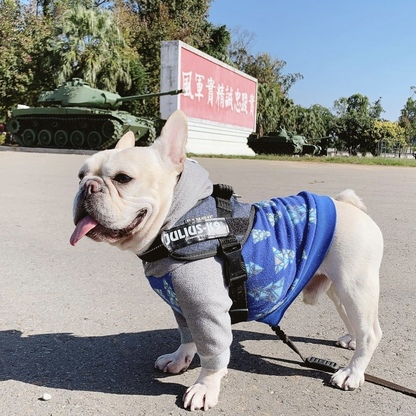bulldog: (69, 109, 388, 413)
